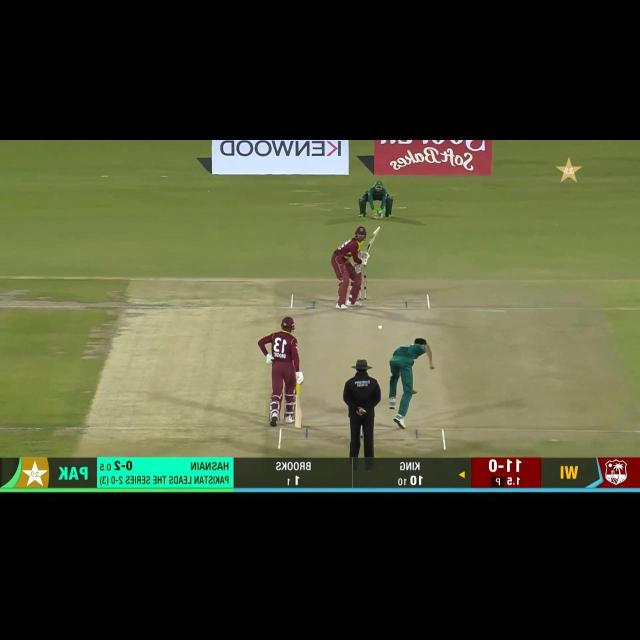bat: (366, 226, 381, 253), (293, 395, 302, 429)
toe: (293, 423, 302, 429), (375, 226, 380, 233)
